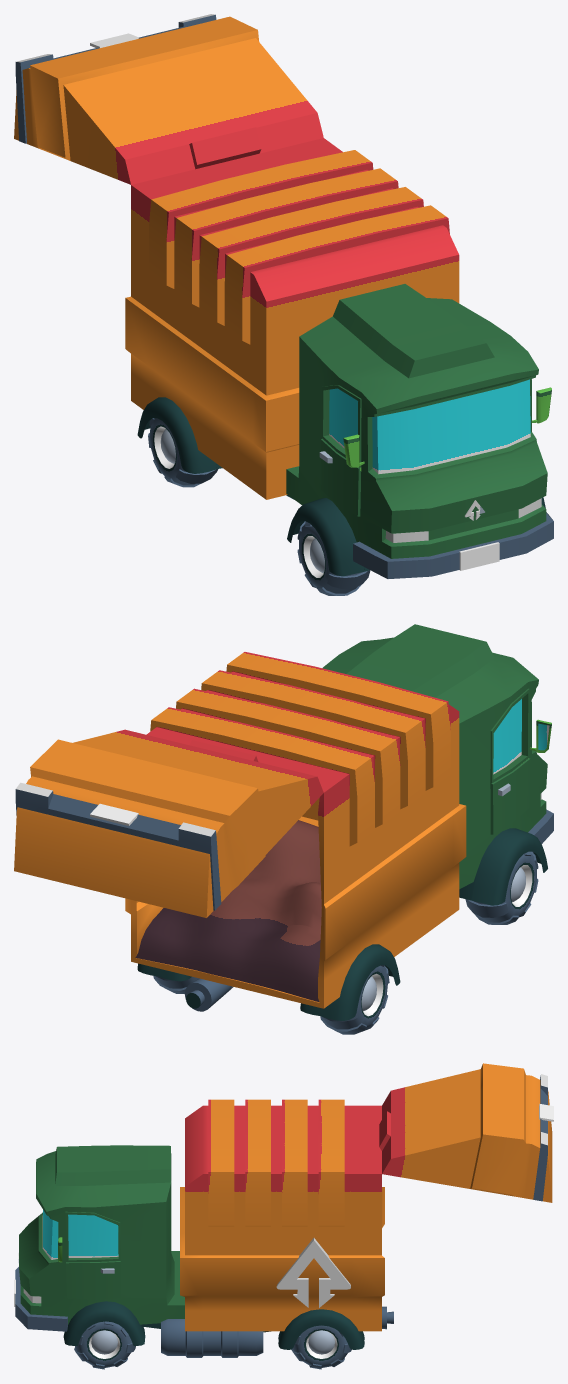
File: Camion_Amarillo.001.fbx
3 views of the same model, one above another, from view 1: azimuth 30°, elevation 25°; view 2: azimuth 150°, elevation 25°; view 3: azimuth 270°, elevation 25° (orthographic). The views are drawn at different scales.
Visible parts, largest first — view 1: Camion_Amarillo.001; view 2: Camion_Amarillo.001; view 3: Camion_Amarillo.001.
Part boxes in pixels (left/top/right/bottom): Camion_Amarillo.001: left=14, top=14, right=553, bottom=595; Camion_Amarillo.001: left=14, top=624, right=553, bottom=1034; Camion_Amarillo.001: left=14, top=1063, right=553, bottom=1369.
Bounding box in the file's own units: 520 × 763 × 1561.
